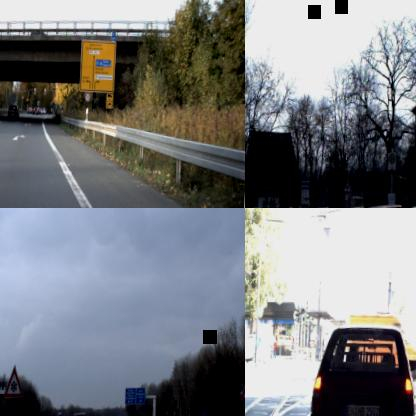SNOW: (3, 364, 24, 398), (239, 368, 245, 402)
keep right: (256, 337, 262, 349)
priority at next intersection: (342, 179, 352, 193)
speed limit 50: (83, 92, 90, 102)
